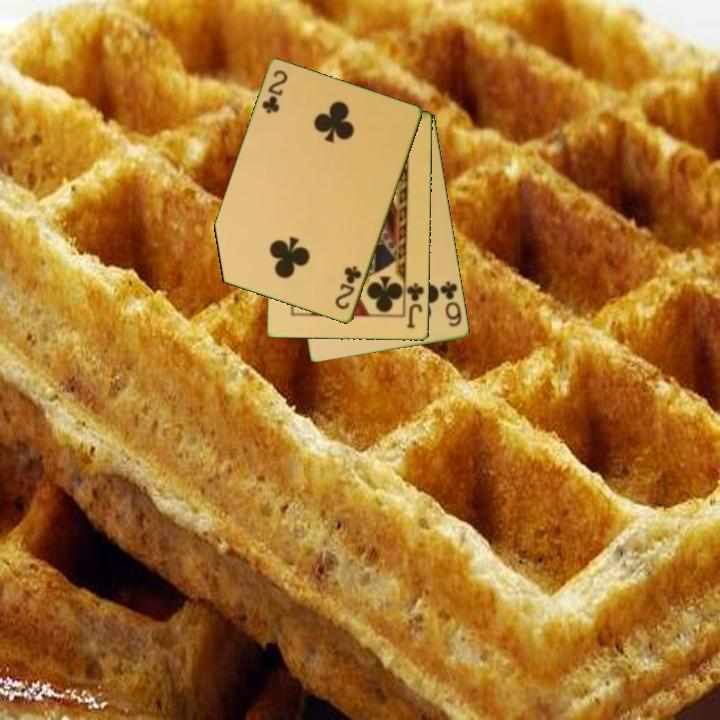2c: (332, 262, 365, 313), (259, 67, 291, 117)
6c: (437, 278, 465, 330)
Jc: (403, 280, 427, 331)
